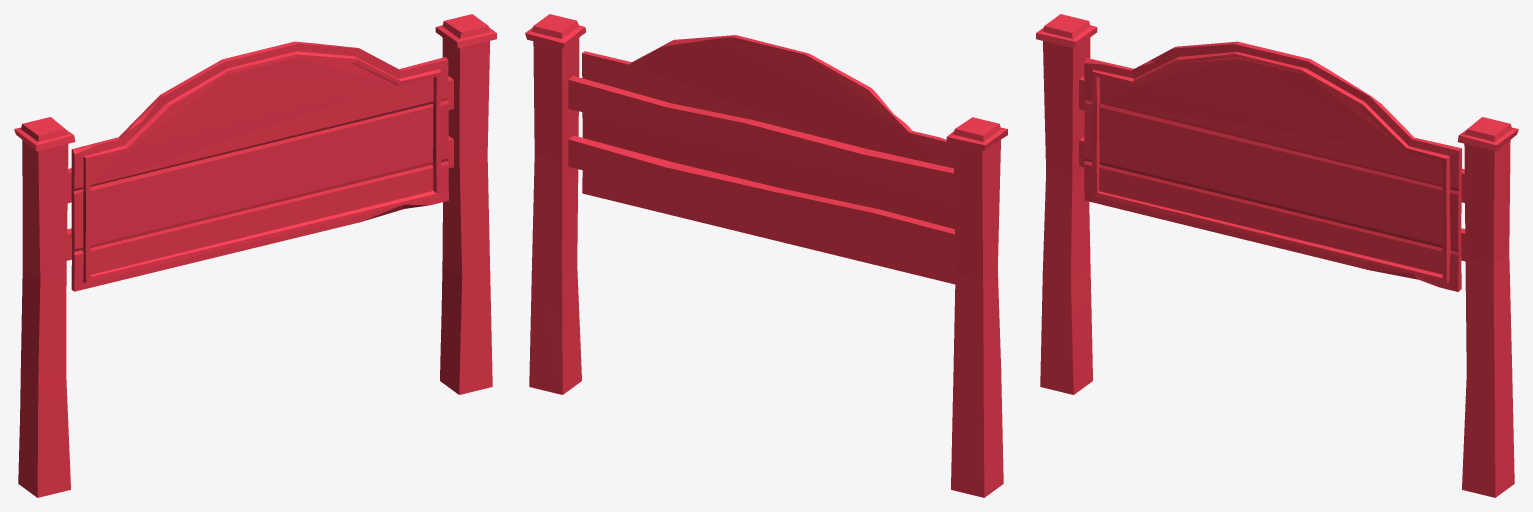
File: SM_Sign_Farm.fbx
3 views of the same model, side by side, from view 1: azimuth 30°, elevation 25°; view 2: azimuth 150°, elevation 25°; view 3: azimuth 330°, elevation 25° (orthographic).
Parts seen in each view (by area): view 1: sign-farm; view 2: sign-farm; view 3: sign-farm.
Boxes of the visible parts, x1,y1,x2,y2 form: sign-farm: (14, 14, 496, 497); sign-farm: (525, 14, 1007, 497); sign-farm: (1036, 14, 1518, 497).
Size of the model in its own units: 3.06 by 2.46 by 0.2581.
